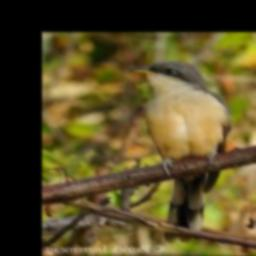Cuckoo: (128, 62, 233, 243)
